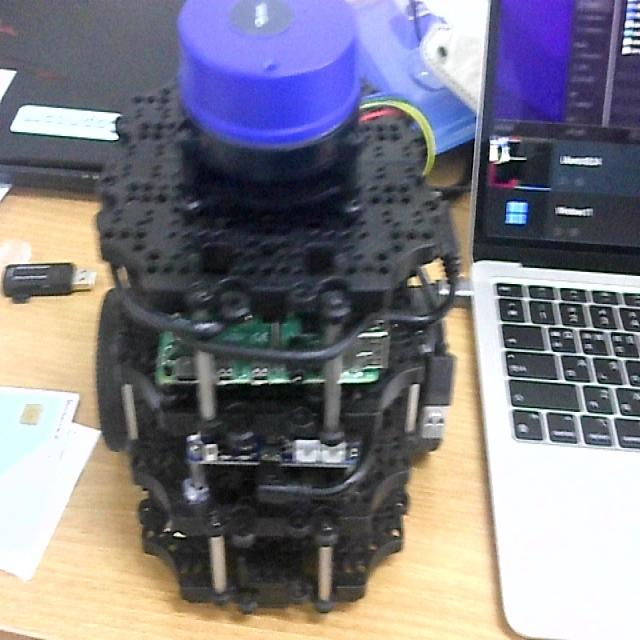turtle: (92, 0, 462, 620)
